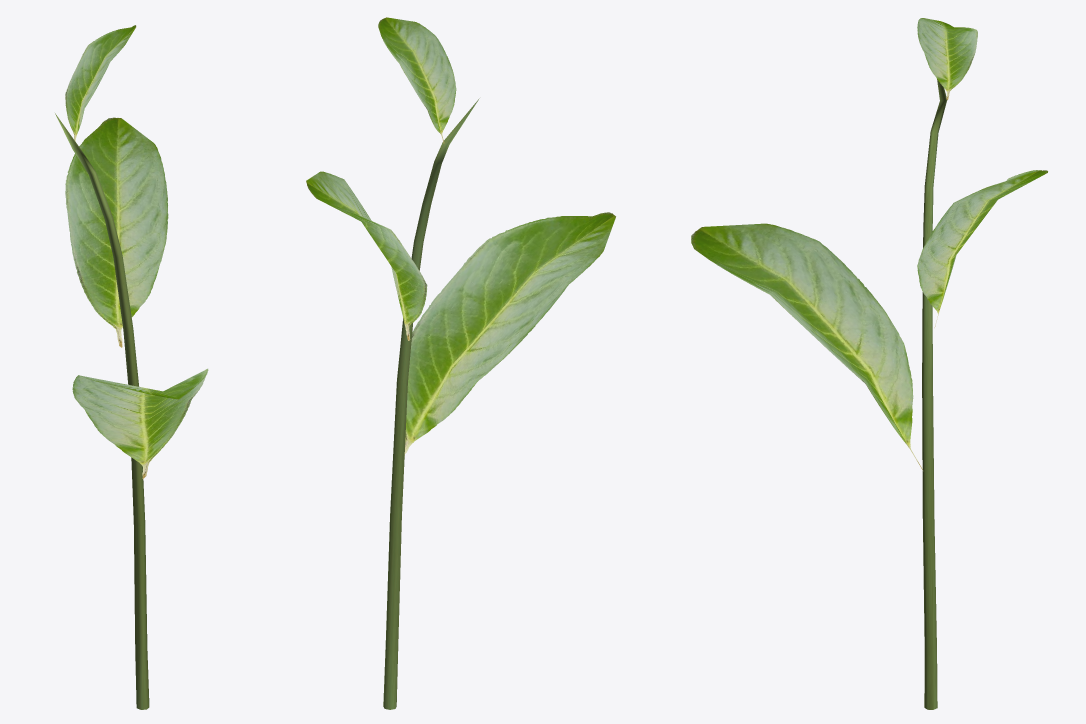
The model's file is SM_Plant_17.fbx.
3 renders of one model, left to right at view 1: azimuth 30°, elevation 25°; view 2: azimuth 150°, elevation 25°; view 3: azimuth 270°, elevation 25°, orthographic. The views are drawn at different scales.
Parts seen in each view (by area): view 1: SM_Plant_17; view 2: SM_Plant_17; view 3: SM_Plant_17.
Part boxes in pixels (<box>): SM_Plant_17: <box>55,25,208,709</box>; SM_Plant_17: <box>306,17,615,709</box>; SM_Plant_17: <box>691,18,1047,709</box>.
Bounding box in the file's own units: 9.36 × 16 × 29.21.
Materials: 2 (2 with a texture image).
